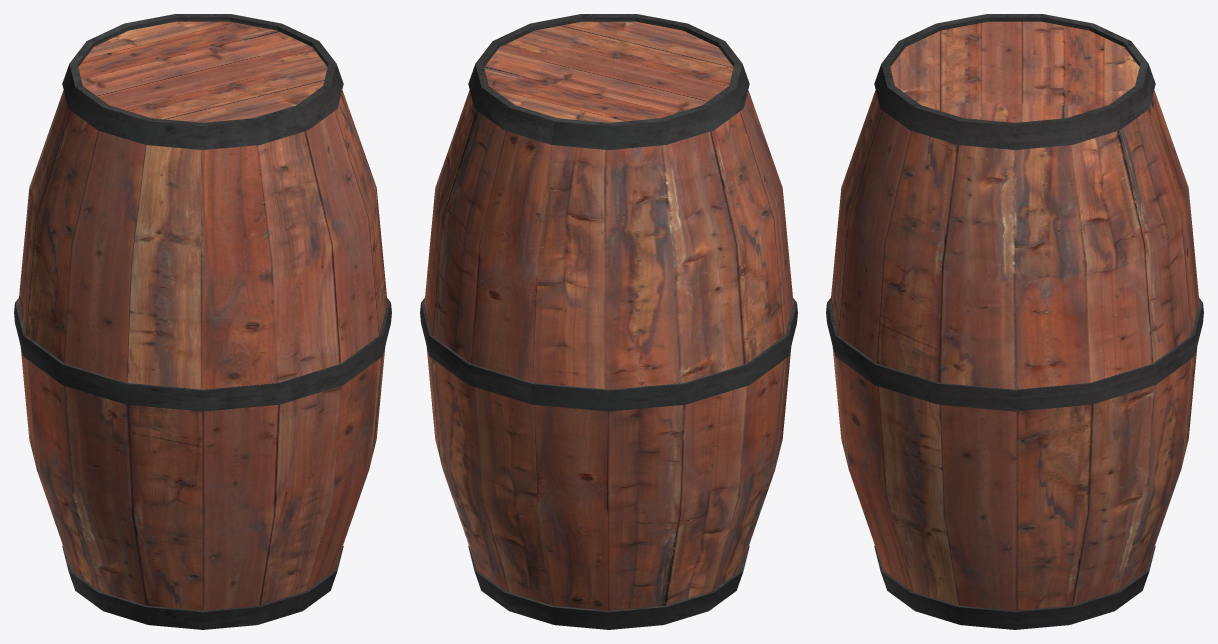
File: Barrel.FBX
The picture shows the model from 3 angles, left to right: view 1: azimuth 30°, elevation 25°; view 2: azimuth 150°, elevation 25°; view 3: azimuth 270°, elevation 25°; orthographic projection.
Parts seen in each view (by area): view 1: Cylinder001; view 2: Cylinder001; view 3: Cylinder001.
Part boxes in pixels (x1,y1,x2,y2): Cylinder001: (14,14,391,629); Cylinder001: (420,14,797,629); Cylinder001: (826,14,1203,629).
Bounding box in the file's own units: 81.17 × 120 × 81.61.
1 material, 1 textured.
